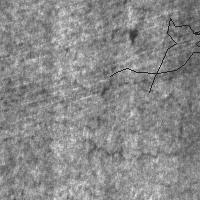crazing: (110, 18, 200, 92), (44, 73, 109, 133), (82, 136, 195, 166)
